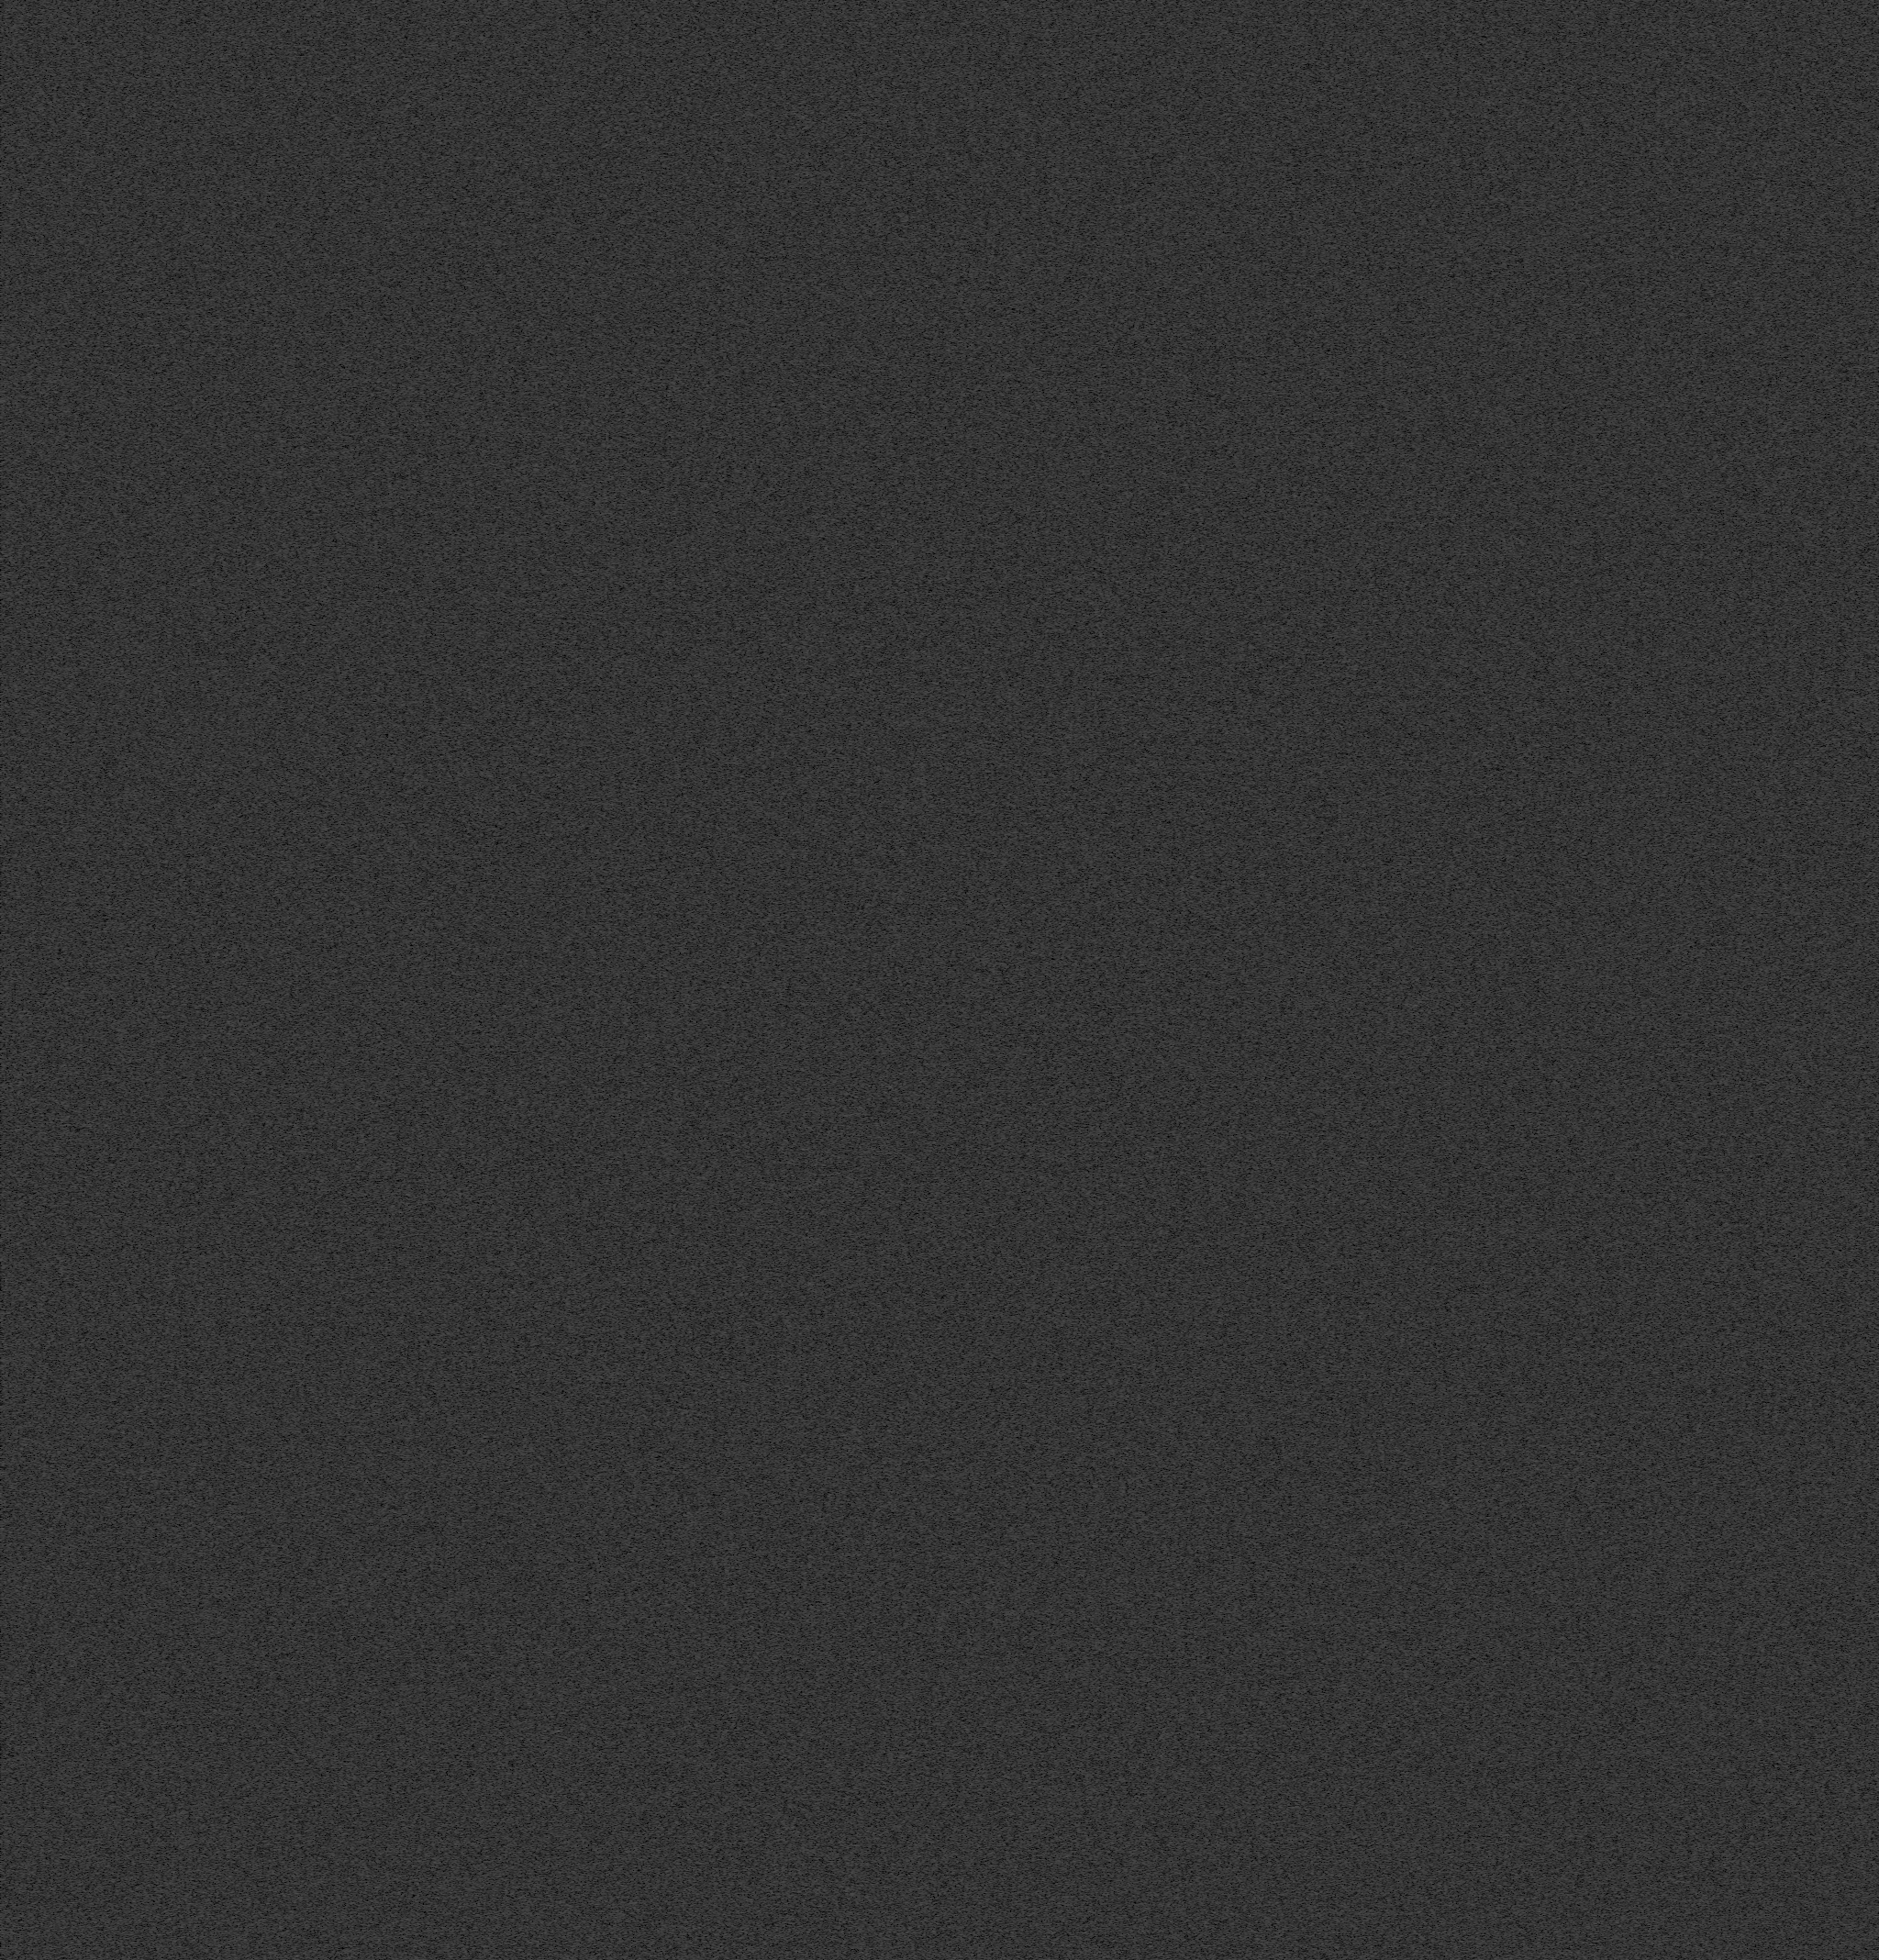wv_am: (1102, 2, 1106, 1958), (497, 229, 500, 784), (497, 847, 500, 1176), (497, 2, 500, 224), (497, 1407, 500, 1570), (497, 1839, 500, 1958), (497, 1290, 500, 1363), (497, 1683, 500, 1755), (497, 1183, 500, 1230), (497, 1802, 500, 1839), (497, 1573, 500, 1608), (497, 1643, 500, 1673), (497, 1764, 500, 1792), (497, 1232, 500, 1260), (497, 1610, 500, 1636), (497, 821, 500, 845), (497, 1370, 500, 1393), (497, 793, 500, 816), (497, 1269, 500, 1286), (497, 1676, 500, 1680)
wv_usb: (1554, 10, 1559, 549), (1554, 698, 1557, 1239), (1554, 1241, 1557, 1626), (1739, 299, 1744, 427), (1739, 427, 1744, 487), (1554, 551, 1557, 623), (1554, 637, 1557, 698), (1739, 201, 1744, 238), (1739, 103, 1744, 140), (1739, 164, 1744, 200), (1211, 10, 1214, 59), (1739, 37, 1744, 66), (1739, 259, 1744, 289), (1739, 1456, 1744, 1484), (1211, 446, 1214, 480), (1739, 1822, 1744, 1843), (1211, 1351, 1214, 1381), (1739, 72, 1744, 91), (1739, 518, 1744, 537), (1211, 1305, 1214, 1334), (1211, 1029, 1214, 1057), (1211, 943, 1214, 971), (1211, 871, 1214, 899), (1211, 761, 1214, 789), (1211, 263, 1214, 290), (1554, 1631, 1557, 1657), (1211, 1134, 1214, 1160), (1211, 1090, 1214, 1117), (1739, 240, 1744, 257), (1211, 1785, 1214, 1810), (1211, 626, 1214, 651), (1211, 1666, 1214, 1689), (1211, 723, 1214, 745), (1211, 350, 1214, 373), (1739, 1911, 1743, 1934), (1554, 1720, 1557, 1741), (1211, 987, 1214, 1008), (1211, 1236, 1214, 1255), (1211, 1174, 1214, 1193), (1211, 502, 1214, 521), (1211, 242, 1214, 261), (1211, 212, 1214, 231), (1211, 178, 1214, 198), (1739, 142, 1744, 154), (1739, 1484, 1744, 1496), (1554, 1750, 1557, 1767), (1211, 899, 1214, 917), (1211, 385, 1214, 403), (1211, 313, 1214, 331), (1739, 1860, 1743, 1876), (1211, 1846, 1214, 1860), (1211, 1822, 1214, 1836), (1211, 1757, 1214, 1771), (1211, 1729, 1214, 1743), (1211, 1274, 1214, 1288), (1211, 1195, 1214, 1209), (1211, 747, 1214, 761), (1211, 523, 1214, 537), (1211, 404, 1214, 418), (1211, 164, 1214, 178), (1211, 101, 1214, 116), (1739, 156, 1744, 164), (1739, 501, 1744, 509), (1739, 289, 1744, 297), (1554, 1787, 1557, 1799), (1554, 1769, 1557, 1782), (1554, 1668, 1557, 1680), (1554, 623, 1557, 635), (1211, 1862, 1214, 1874), (1211, 919, 1214, 931), (1741, 957, 1743, 982), (1211, 1876, 1214, 1887), (1211, 1773, 1214, 1783), (1211, 1719, 1214, 1729), (1211, 931, 1214, 942), (1211, 845, 1214, 856), (1211, 656, 1214, 667), (1211, 483, 1214, 493), (1211, 138, 1214, 149), (1211, 128, 1214, 138), (1739, 1843, 1743, 1853), (1741, 537, 1743, 557), (1211, 1701, 1214, 1710), (1211, 1691, 1214, 1699), (1211, 1165, 1214, 1174), (1211, 1117, 1214, 1125), (1211, 1067, 1214, 1076), (1211, 1019, 1214, 1027), (1211, 1008, 1214, 1017), (1211, 805, 1214, 814), (1211, 695, 1214, 703), (1211, 607, 1214, 616), (1211, 597, 1214, 606), (1211, 588, 1214, 597), (1211, 374, 1214, 383), (1211, 336, 1214, 345), (1211, 93, 1214, 101), (1211, 74, 1214, 82), (1739, 1900, 1743, 1909), (1741, 1880, 1743, 1897), (1739, 93, 1744, 98), (1741, 831, 1743, 847), (1554, 1867, 1557, 1874), (1211, 1813, 1214, 1820), (1739, 1542, 1743, 1549), (1211, 1657, 1214, 1664), (1211, 1334, 1214, 1340), (1211, 1228, 1214, 1236), (1211, 1221, 1214, 1228), (1211, 1211, 1214, 1218), (1741, 1496, 1743, 1510), (1211, 857, 1214, 865), (1211, 816, 1214, 822), (1211, 618, 1214, 625), (1211, 572, 1214, 579), (1211, 557, 1214, 563), (1211, 493, 1214, 501), (1211, 418, 1214, 425), (1211, 306, 1214, 313), (1211, 233, 1214, 240), (1741, 1153, 1743, 1165), (1739, 66, 1743, 72), (1554, 1930, 1557, 1936), (1741, 1550, 1743, 1561), (1211, 1752, 1214, 1757), (1211, 1711, 1214, 1717), (1211, 1650, 1214, 1656), (1211, 1288, 1214, 1293), (1211, 1269, 1214, 1274), (1211, 1262, 1214, 1267), (1211, 1255, 1214, 1260), (1211, 1127, 1214, 1132), (1211, 1083, 1214, 1089), (1211, 1078, 1214, 1083), (1211, 865, 1214, 870), (1211, 835, 1214, 840), (1211, 796, 1214, 802), (1211, 789, 1214, 794), (1211, 714, 1214, 719), (1211, 675, 1214, 681), (1211, 432, 1214, 438), (1211, 331, 1214, 336), (1211, 203, 1214, 208), (1211, 68, 1214, 74), (1211, 59, 1214, 65), (1741, 1272, 1743, 1283), (1741, 1027, 1743, 1038), (1741, 938, 1743, 948), (1741, 898, 1743, 908), (1741, 1934, 1743, 1943), (1741, 1120, 1743, 1129), (1741, 1097, 1743, 1106), (1741, 1087, 1743, 1095), (1741, 998, 1743, 1006), (1741, 989, 1743, 998), (1739, 98, 1743, 101), (1554, 1936, 1557, 1939), (1554, 1911, 1557, 1915), (1554, 1893, 1557, 1897), (1554, 1890, 1557, 1893), (1554, 1887, 1557, 1890), (1554, 1876, 1557, 1880), (1554, 1862, 1557, 1865), (1554, 1827, 1557, 1830), (1554, 1822, 1557, 1825), (1554, 1801, 1557, 1804), (1554, 1706, 1557, 1710), (1554, 1703, 1557, 1706), (1554, 1685, 1557, 1689), (1554, 1680, 1557, 1683), (1554, 1657, 1557, 1661), (1211, 1841, 1214, 1845), (1211, 1386, 1214, 1390), (1741, 1533, 1743, 1540), (1211, 1300, 1214, 1304), (1211, 1295, 1214, 1299), (1741, 1517, 1743, 1524), (1211, 1162, 1214, 1165), (1211, 1057, 1214, 1060), (1211, 840, 1214, 844), (1211, 830, 1214, 833), (1211, 709, 1214, 712), (1211, 681, 1214, 684), (1211, 672, 1214, 675), (1211, 667, 1214, 670), (1211, 651, 1214, 654), (1211, 583, 1214, 586), (1211, 553, 1214, 557), (1211, 438, 1214, 441), (1211, 427, 1214, 431), (1741, 1421, 1743, 1428), (1211, 297, 1214, 301), (1211, 292, 1214, 296), (1211, 208, 1214, 212), (1211, 200, 1214, 203), (1211, 161, 1214, 164), (1211, 156, 1214, 159), (1741, 1405, 1743, 1412), (1211, 149, 1214, 152), (1211, 122, 1214, 126), (1211, 87, 1214, 91), (1741, 1365, 1743, 1372), (1741, 1213, 1743, 1220), (1741, 1197, 1743, 1204), (1741, 1080, 1743, 1087), (1741, 1067, 1743, 1074), (1741, 1059, 1743, 1066), (1741, 1050, 1743, 1057), (1741, 1039, 1743, 1046), (1741, 1020, 1743, 1027), (1741, 1010, 1743, 1017), (1741, 889, 1743, 896), (1741, 880, 1743, 887), (1741, 871, 1743, 879), (1741, 572, 1743, 579), (1741, 563, 1743, 571), (1741, 488, 1743, 495), (1741, 1811, 1743, 1817), (1741, 1582, 1743, 1587), (1741, 1330, 1743, 1335), (1741, 1309, 1743, 1314), (1741, 1178, 1743, 1183), (1741, 1139, 1743, 1145), (1741, 982, 1743, 987), (1741, 950, 1743, 955), (1741, 931, 1743, 936), (1741, 922, 1743, 928), (1741, 910, 1743, 915), (1741, 849, 1743, 854), (1741, 583, 1743, 588), (1741, 511, 1743, 516), (1741, 1955, 1743, 1958), (1741, 1946, 1743, 1950), (1741, 1818, 1743, 1822), (1741, 31, 1743, 35), (1741, 25, 1743, 28), (1741, 21, 1743, 25), (1741, 16, 1743, 19), (1554, 1916, 1557, 1918), (1554, 1858, 1557, 1860), (1554, 1818, 1557, 1820), (1554, 1806, 1557, 1808), (1741, 1617, 1743, 1620), (1554, 1711, 1557, 1713), (1554, 1664, 1557, 1666), (1554, 1628, 1557, 1629), (1741, 1575, 1743, 1579), (1741, 1568, 1743, 1572), (1741, 1512, 1743, 1516), (1211, 1064, 1214, 1066), (1211, 983, 1214, 985), (1211, 826, 1214, 828), (1741, 1446, 1743, 1449), (1211, 569, 1214, 571), (1741, 1430, 1743, 1433), (1211, 443, 1214, 445), (1211, 303, 1214, 304), (1741, 1418, 1743, 1421), (1211, 119, 1214, 121), (1211, 84, 1214, 86), (1741, 1386, 1743, 1390), (1741, 1349, 1743, 1353), (1741, 1316, 1743, 1319), (1741, 1256, 1743, 1260), (1741, 1220, 1743, 1223), (1741, 1192, 1743, 1195), (1741, 1173, 1743, 1176), (1741, 1167, 1743, 1171), (1741, 1897, 1743, 1900), (1741, 1132, 1743, 1136), (1741, 1113, 1743, 1117), (1741, 917, 1743, 921), (1741, 1855, 1743, 1858), (1741, 711, 1743, 714), (1741, 648, 1743, 651), (1741, 590, 1743, 593), (1741, 560, 1743, 563), (1741, 497, 1743, 501), (1741, 1297, 1743, 1299), (1741, 1290, 1743, 1292), (1741, 1253, 1743, 1255), (1741, 1241, 1743, 1243), (1741, 1237, 1743, 1239), (1741, 859, 1743, 861)
